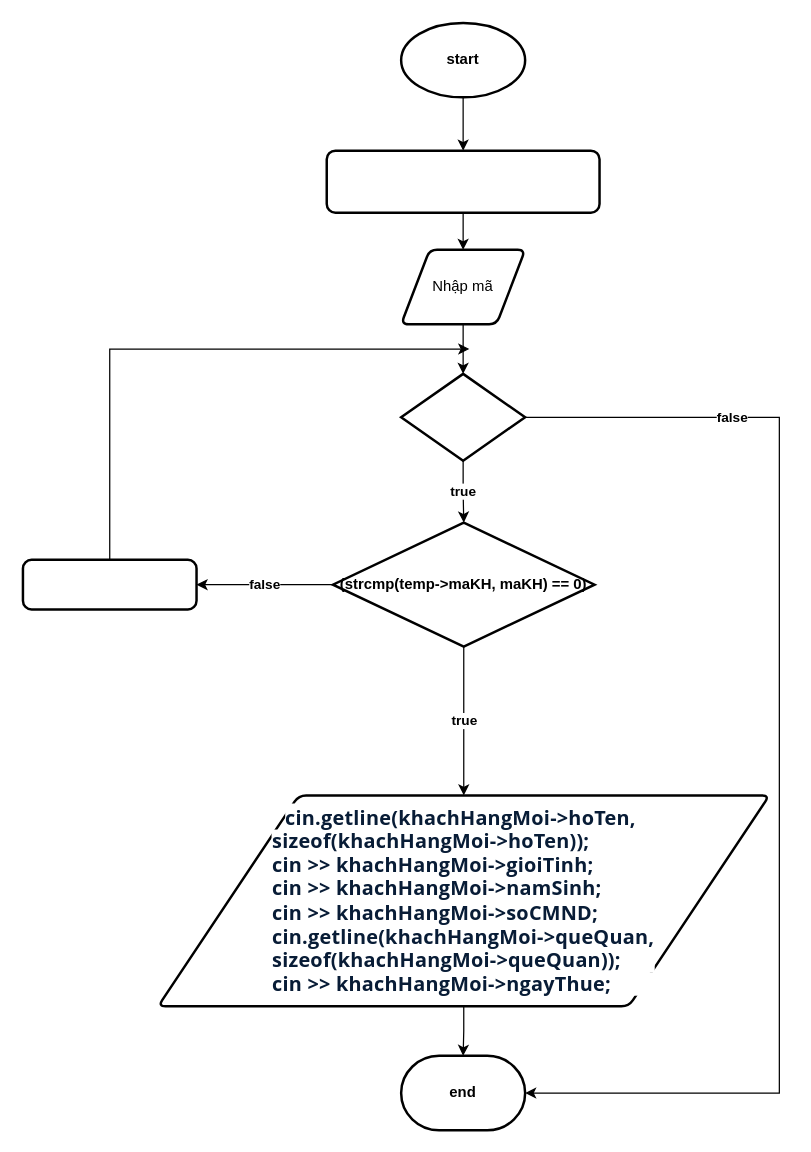
This 811x1152 diagram has some shape labels left out. The centre of each missing label's shape, as x and y in pixels:
khachHang *temp = dsKhachHang: pixel 462 181
temp != nullptr: pixel 462 416
temp = temp->next: pixel 109 584
